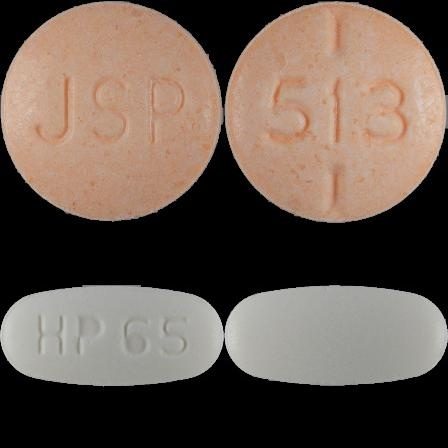61919-783: (0, 0, 224, 224)
